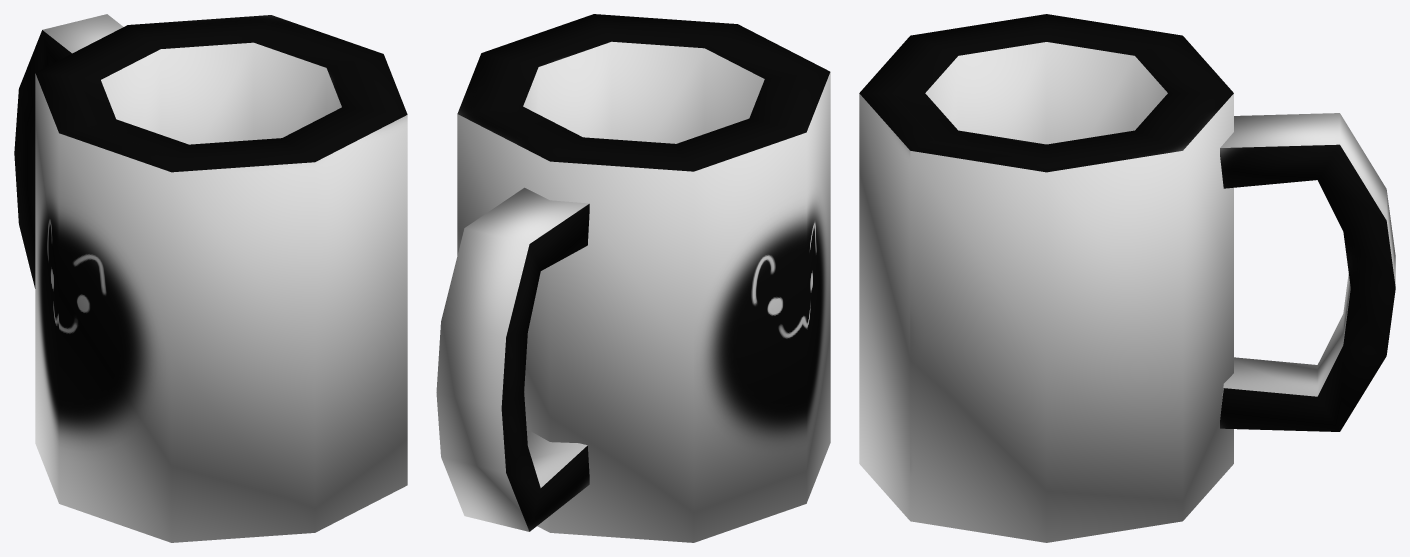
File: CoffeeMug.glb
3 renders of one model, left to right at view 1: azimuth 30°, elevation 25°; view 2: azimuth 150°, elevation 25°; view 3: azimuth 270°, elevation 25°, orthographic.
Parts seen in each view (by area): view 1: Cube; view 2: Cube; view 3: Cube.
Part boxes in pixels (x1,y1,x2,y2): Cube: (14,14,407,542); Cube: (436,14,830,542); Cube: (859,14,1395,542).
Size of the model in its own units: 0.9167 by 1 by 1.31.
1 material, 1 textured.
